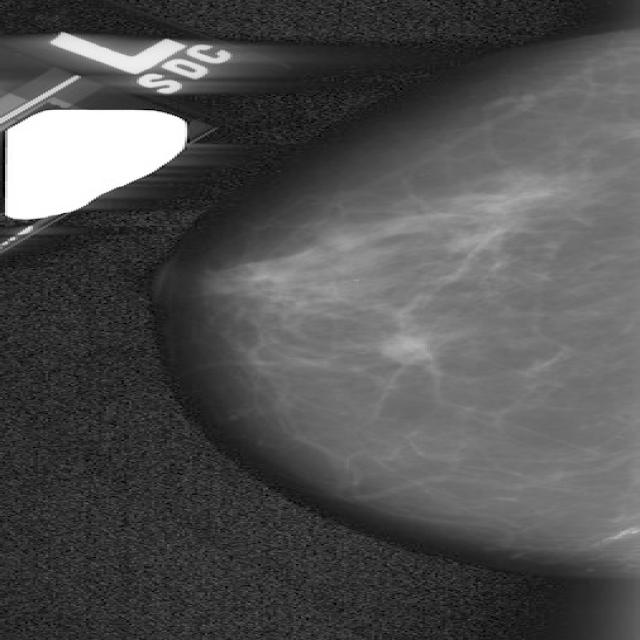tumour: (374, 333, 428, 364)
